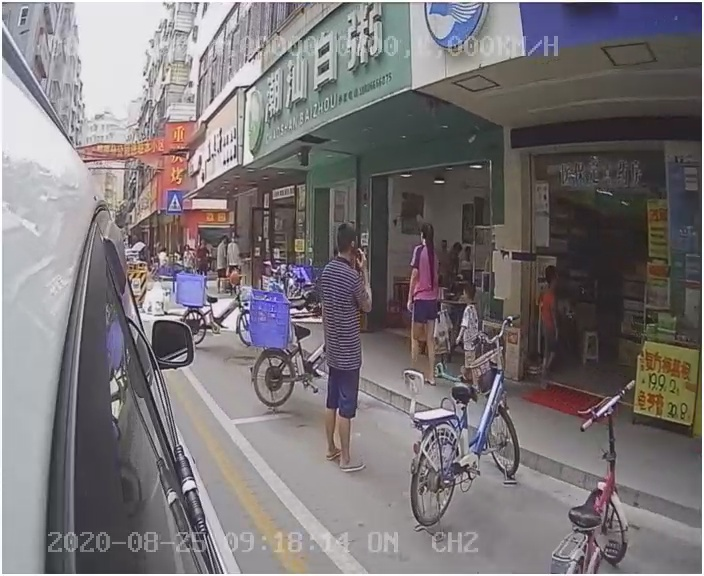person: (307, 224, 379, 481)
